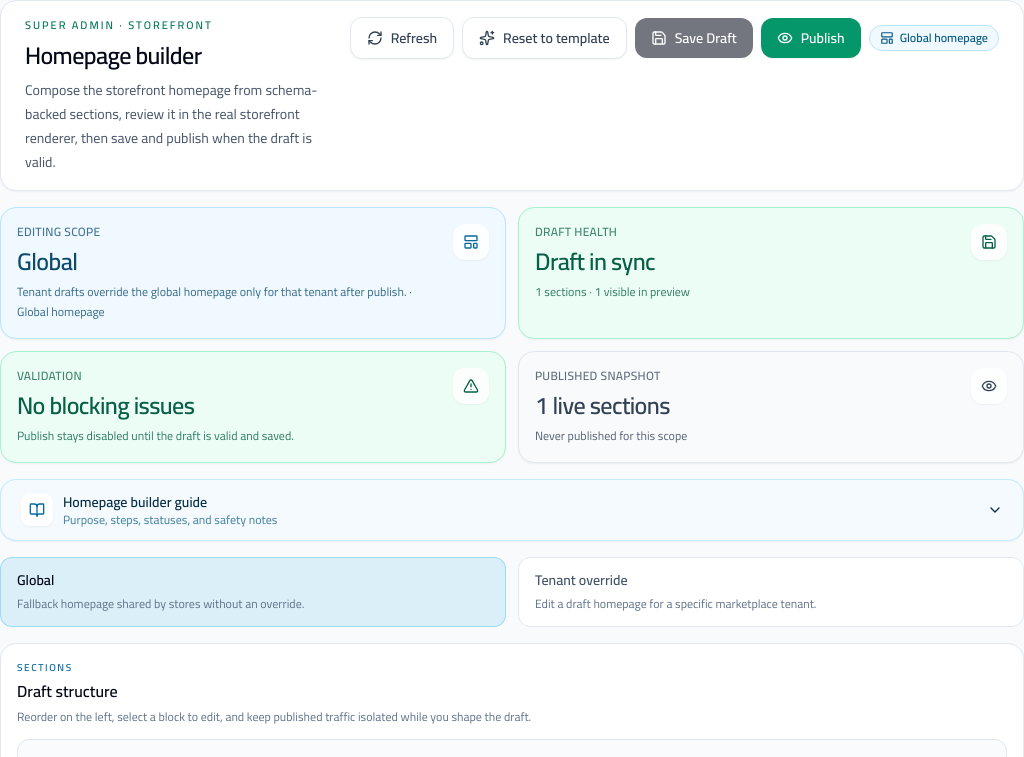
it: HomepageBuilderPage authoring contract › explicit refresh replaces clean state without issuing a save
This screenshot has width=1024, height=757.
Step 1. Click the button "Refresh" → coordinates (402, 38), box x1=350 y1=17 x2=454 y2=59
(page scrolled)
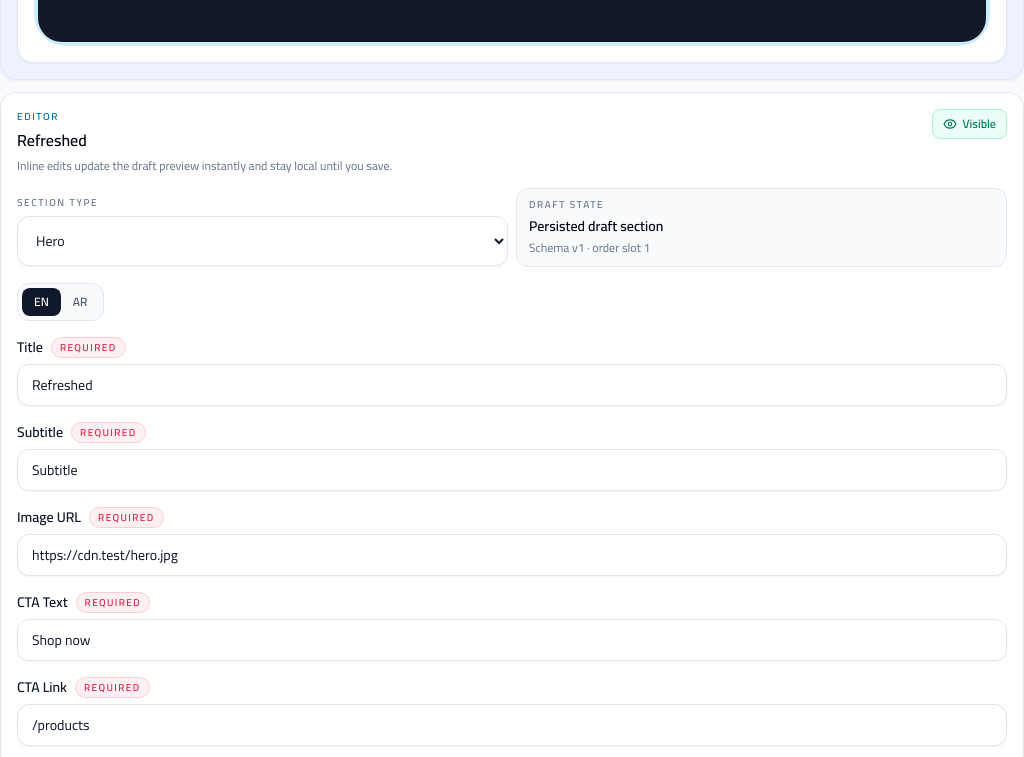
Now the 1st field showing "Refreshed" is shown, box x1=17 y1=364 x2=1007 y2=406
